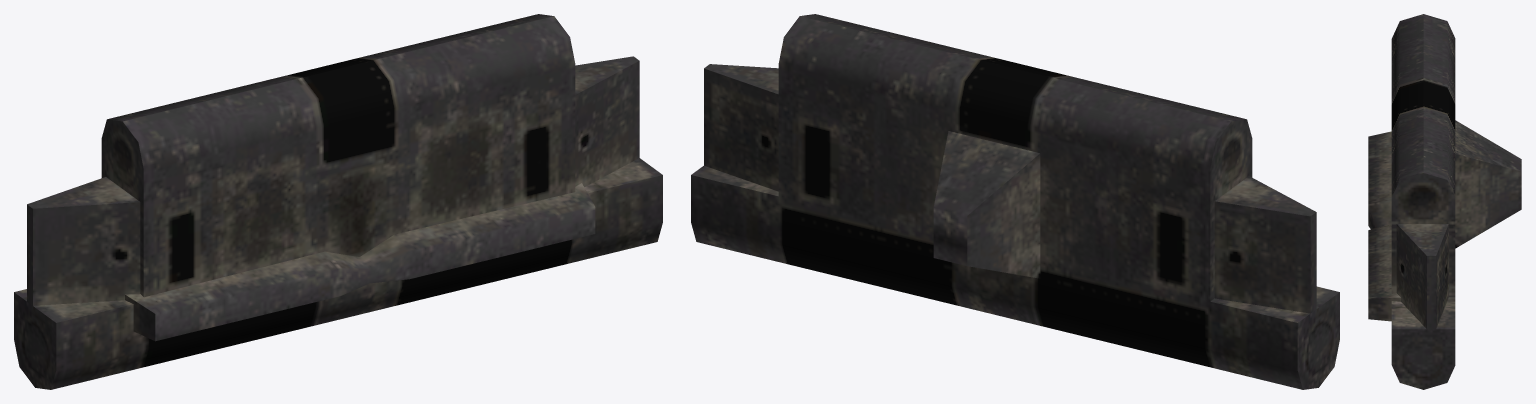
3 views of the same model, side by side, from view 1: azimuth 30°, elevation 25°; view 2: azimuth 150°, elevation 25°; view 3: azimuth 270°, elevation 25° (orthographic). The views are drawn at different scales.
Visible parts, largest first — view 1: set_0_group_0; view 2: set_0_group_0; view 3: set_0_group_0.
Boxes of the visible parts, x1,y1,x2,y2 form: set_0_group_0: [14, 14, 662, 389]; set_0_group_0: [691, 14, 1339, 389]; set_0_group_0: [1368, 14, 1521, 389].
Bounding box in the file's own units: 0.7 × 0.2702 × 0.2034.
Materials: 1 (1 with a texture image).
